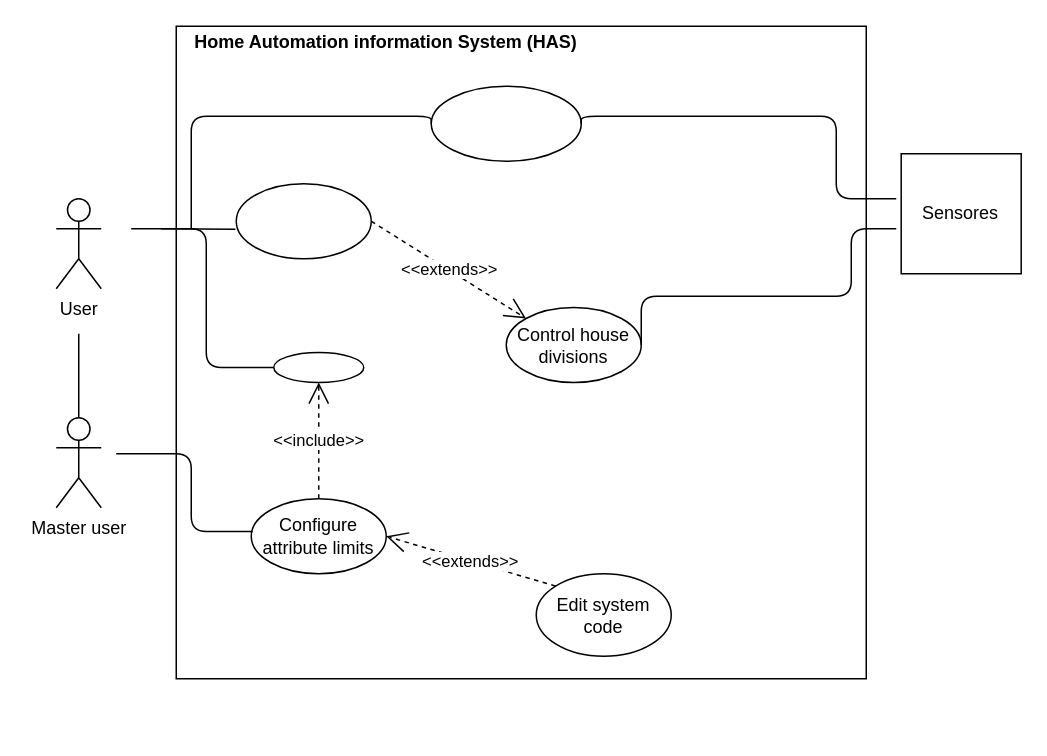
Image size: 1047x756. Some labels were removed from this diagram. The centre of each missing label's shape, as x and y in pixels:
"Access house information" goes at [505,123].
"Log in" goes at [318,366].
"Manual control" goes at [303,220].
